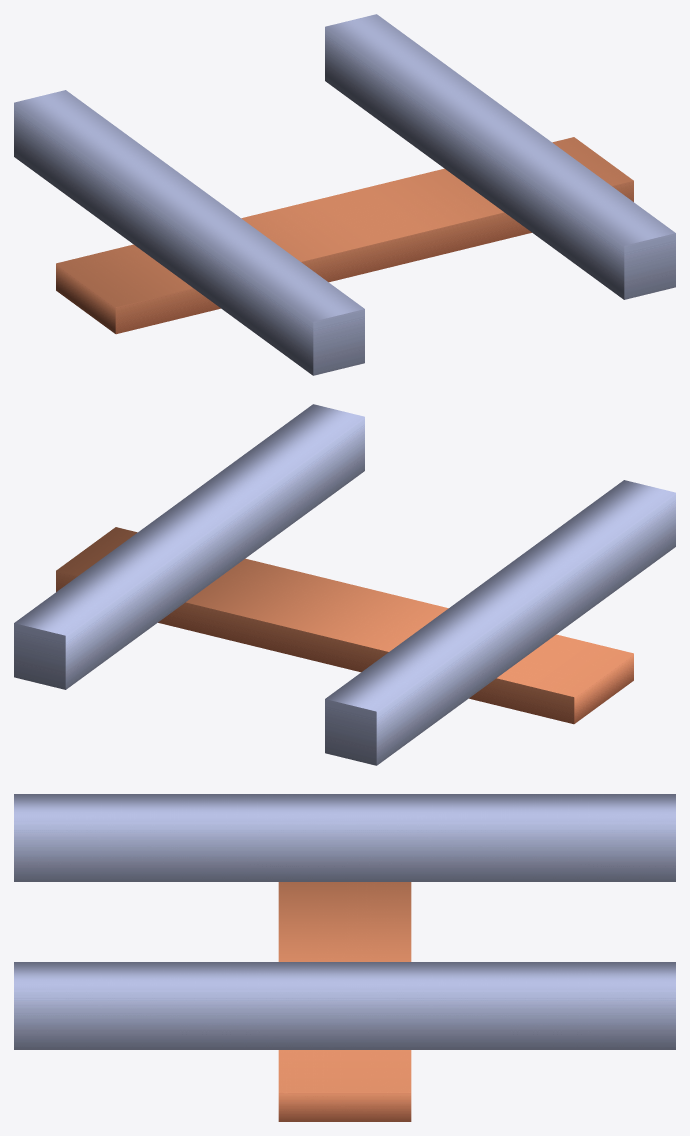
The model's file is track_single.glb.
3 renders of one model, top to bottom at view 1: azimuth 30°, elevation 25°; view 2: azimuth 150°, elevation 25°; view 3: azimuth 270°, elevation 25°, orthographic. The views are drawn at different scales.
Parts seen in each view (by area): view 1: track-single; view 2: track-single; view 3: track-single.
Boxes of the visible parts, <box> form: track-single: <box>14,14,675,375</box>; track-single: <box>14,404,675,765</box>; track-single: <box>14,794,675,1121</box>.
Bounding box in the file's own units: 1 × 0.15 × 1.
Materials: 1 (1 with a texture image).
